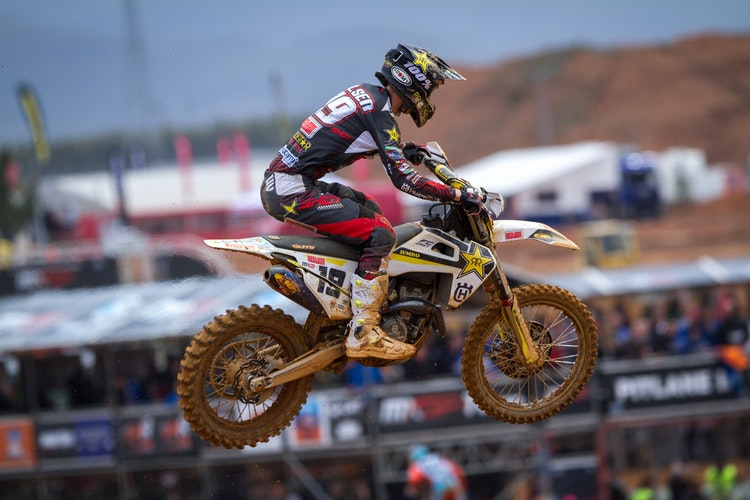helmet: (371, 39, 468, 142)
